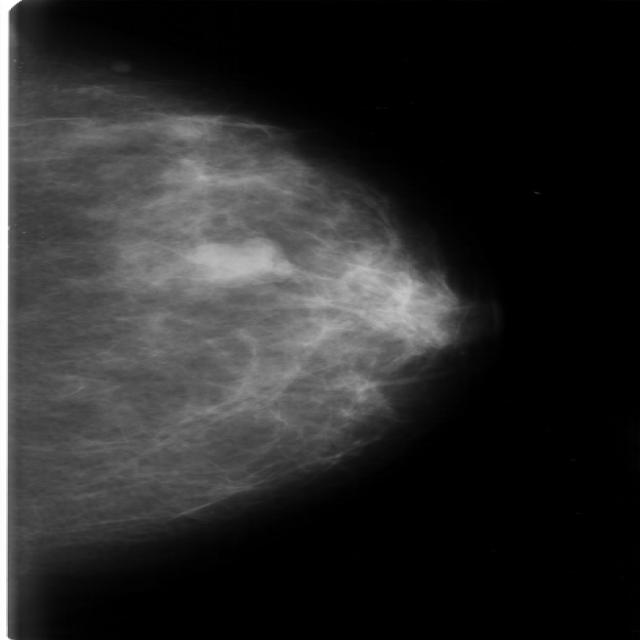tumour: (188, 235, 292, 284)
